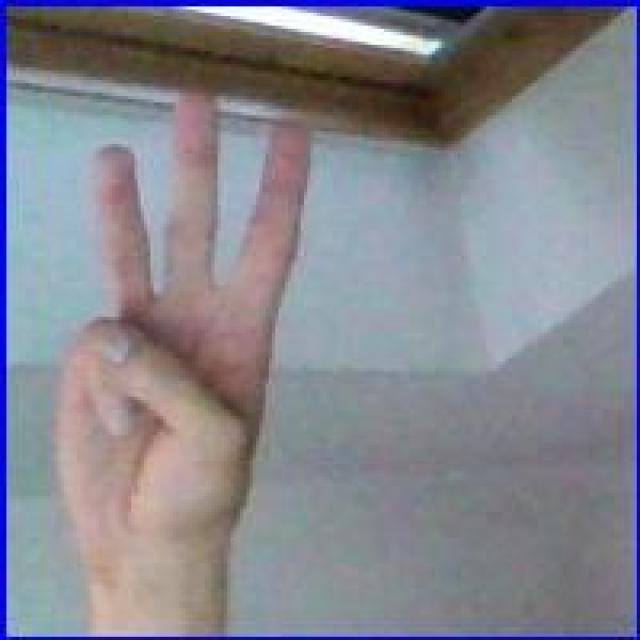W: (49, 85, 318, 584)
